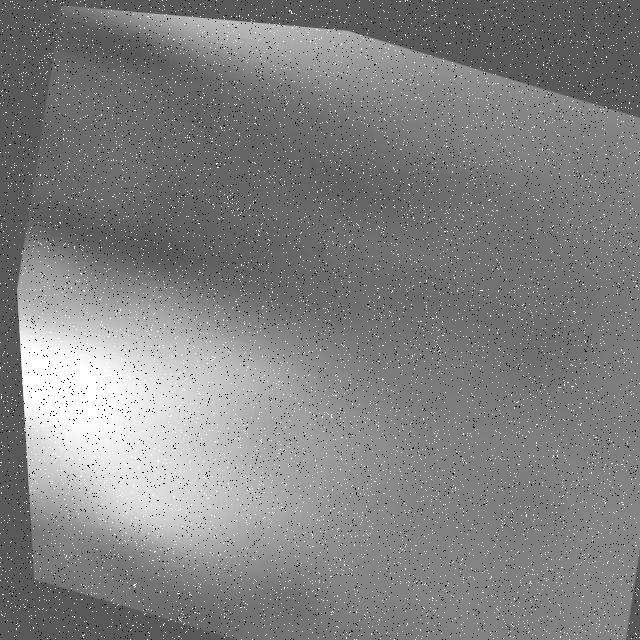person: (13, 262, 428, 618), (64, 5, 590, 140)
